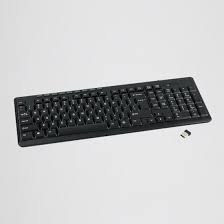keyboard: (12, 74, 215, 149)
